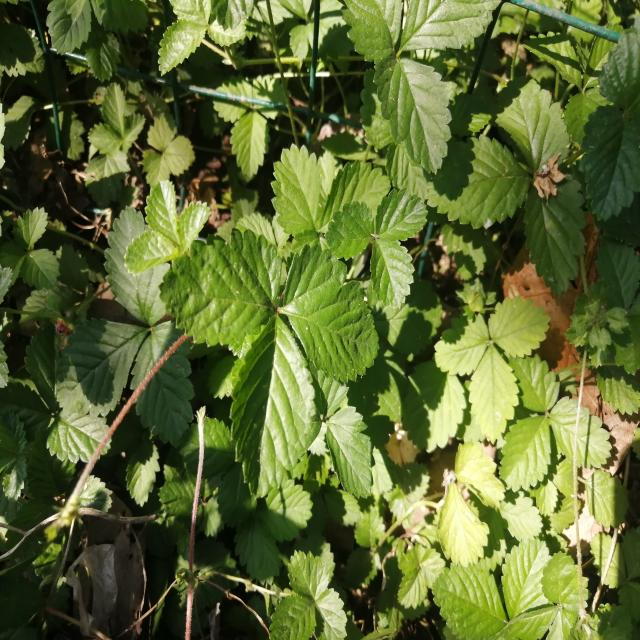Mock_strawberry: (166, 213, 394, 475)
